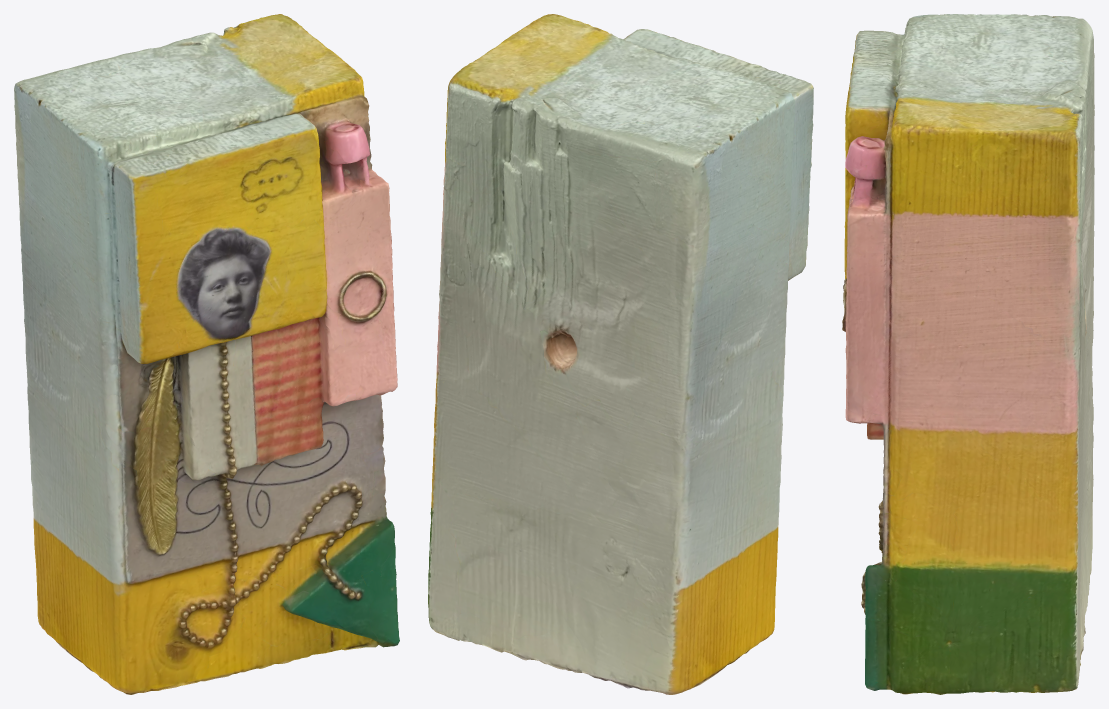
File: A_fucking_walk.glb
3 views of the same model, side by side, from view 1: azimuth 30°, elevation 25°; view 2: azimuth 150°, elevation 25°; view 3: azimuth 270°, elevation 25° (orthographic).
Parts seen in each view (by area): view 1: Geom; view 2: Geom; view 3: Geom.
Boxes of the visible parts, <box> form: Geom: <box>14,14,399,694</box>; Geom: <box>428,14,813,694</box>; Geom: <box>842,14,1094,694</box>.
Size of the model in its own units: 0.0778 by 0.1452 by 0.0591.
1 material, 1 textured.
